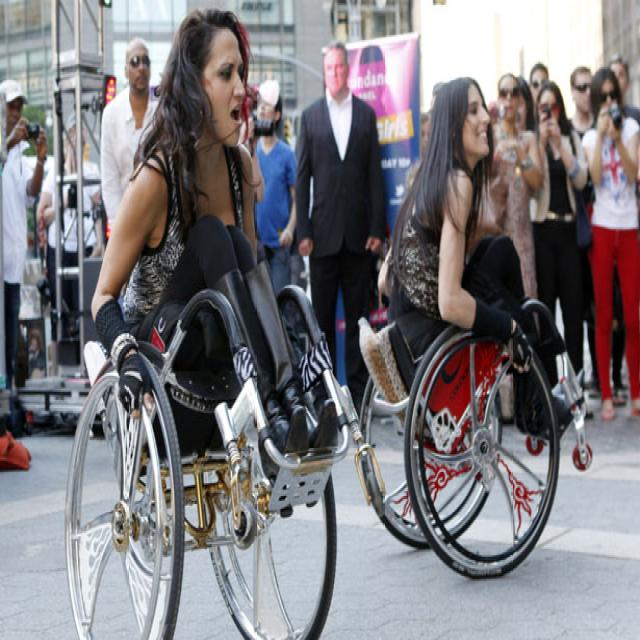wheelchairs: (45, 194, 351, 640), (337, 243, 609, 591)
